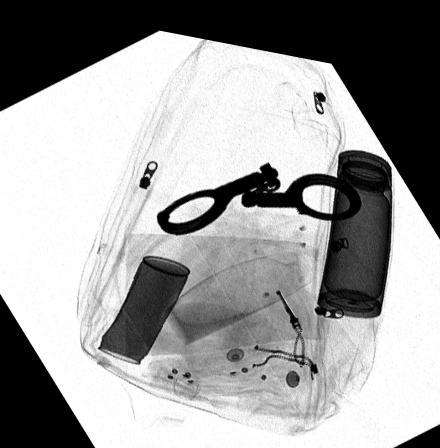HandCuffs: (156, 150, 362, 226)
